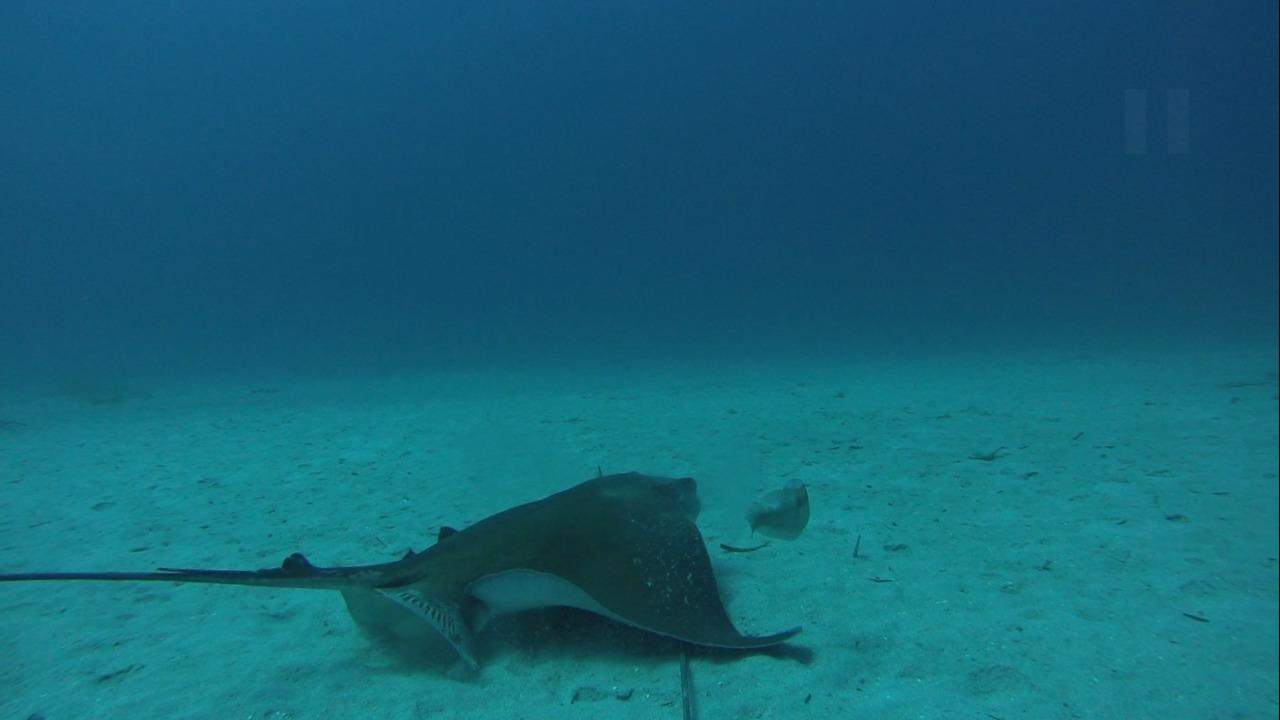myliobatis: (4, 465, 803, 689)
raor: (745, 477, 823, 548)
